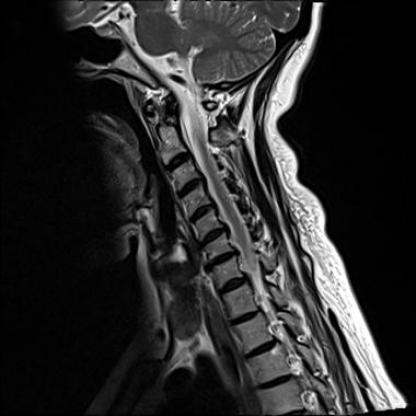Disc Bulgerotation: (197, 230, 227, 244), (207, 253, 237, 266), (188, 206, 215, 220)
